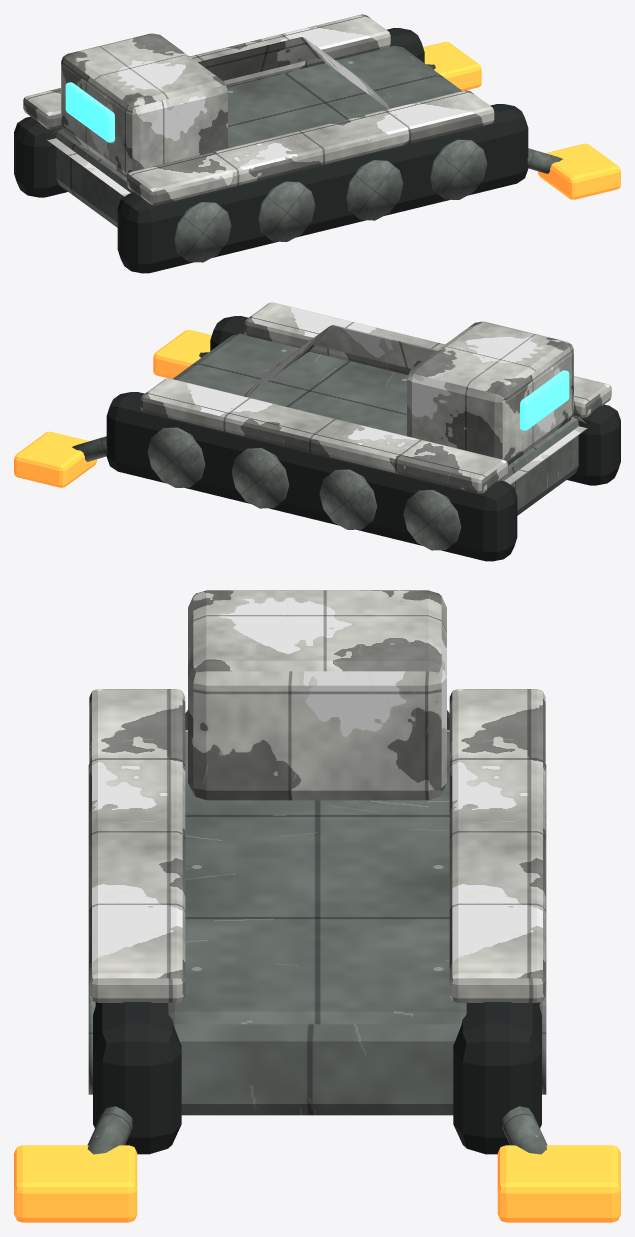
File: artillery_body.glb
3 views of the same model, one above another, from view 1: azimuth 30°, elevation 25°; view 2: azimuth 150°, elevation 25°; view 3: azimuth 270°, elevation 25° (orthographic). The views are drawn at different scales.
Parts seen in each view (by area): view 1: artillery_body_factory_metal, artillery_body_rubber, artillery_body_team_primary, artillery_body_team_accent, artillery_body_warning_emissive, artillery_body_glass_emissive; view 2: artillery_body_factory_metal, artillery_body_rubber, artillery_body_team_primary, artillery_body_team_accent, artillery_body_warning_emissive, artillery_body_glass_emissive; view 3: artillery_body_factory_metal, artillery_body_team_accent, artillery_body_team_primary, artillery_body_rubber, artillery_body_warning_emissive.
Part boxes in pixels (x1,y1,x2,y2): artillery_body_factory_metal: (56, 45, 562, 262); artillery_body_rubber: (14, 28, 528, 273); artillery_body_team_primary: (47, 33, 391, 196); artillery_body_team_accent: (23, 14, 494, 205); artillery_body_warning_emissive: (423, 42, 620, 199); artillery_body_glass_emissive: (65, 82, 114, 142); artillery_body_factory_metal: (72, 333, 578, 550); artillery_body_rubber: (106, 316, 620, 561); artillery_body_team_primary: (243, 321, 587, 484); artillery_body_team_accent: (140, 302, 611, 493); artillery_body_warning_emissive: (14, 330, 211, 487); artillery_body_glass_emissive: (520, 370, 569, 430); artillery_body_factory_metal: (87, 731, 547, 1154); artillery_body_team_accent: (89, 689, 545, 1002); artillery_body_team_primary: (185, 590, 449, 800); artillery_body_rubber: (93, 1002, 541, 1154); artillery_body_warning_emissive: (14, 1145, 620, 1222).
Size of the model in its own units: 3.76 by 1.2 by 2.45.
Materials: 6 (3 with a texture image).
